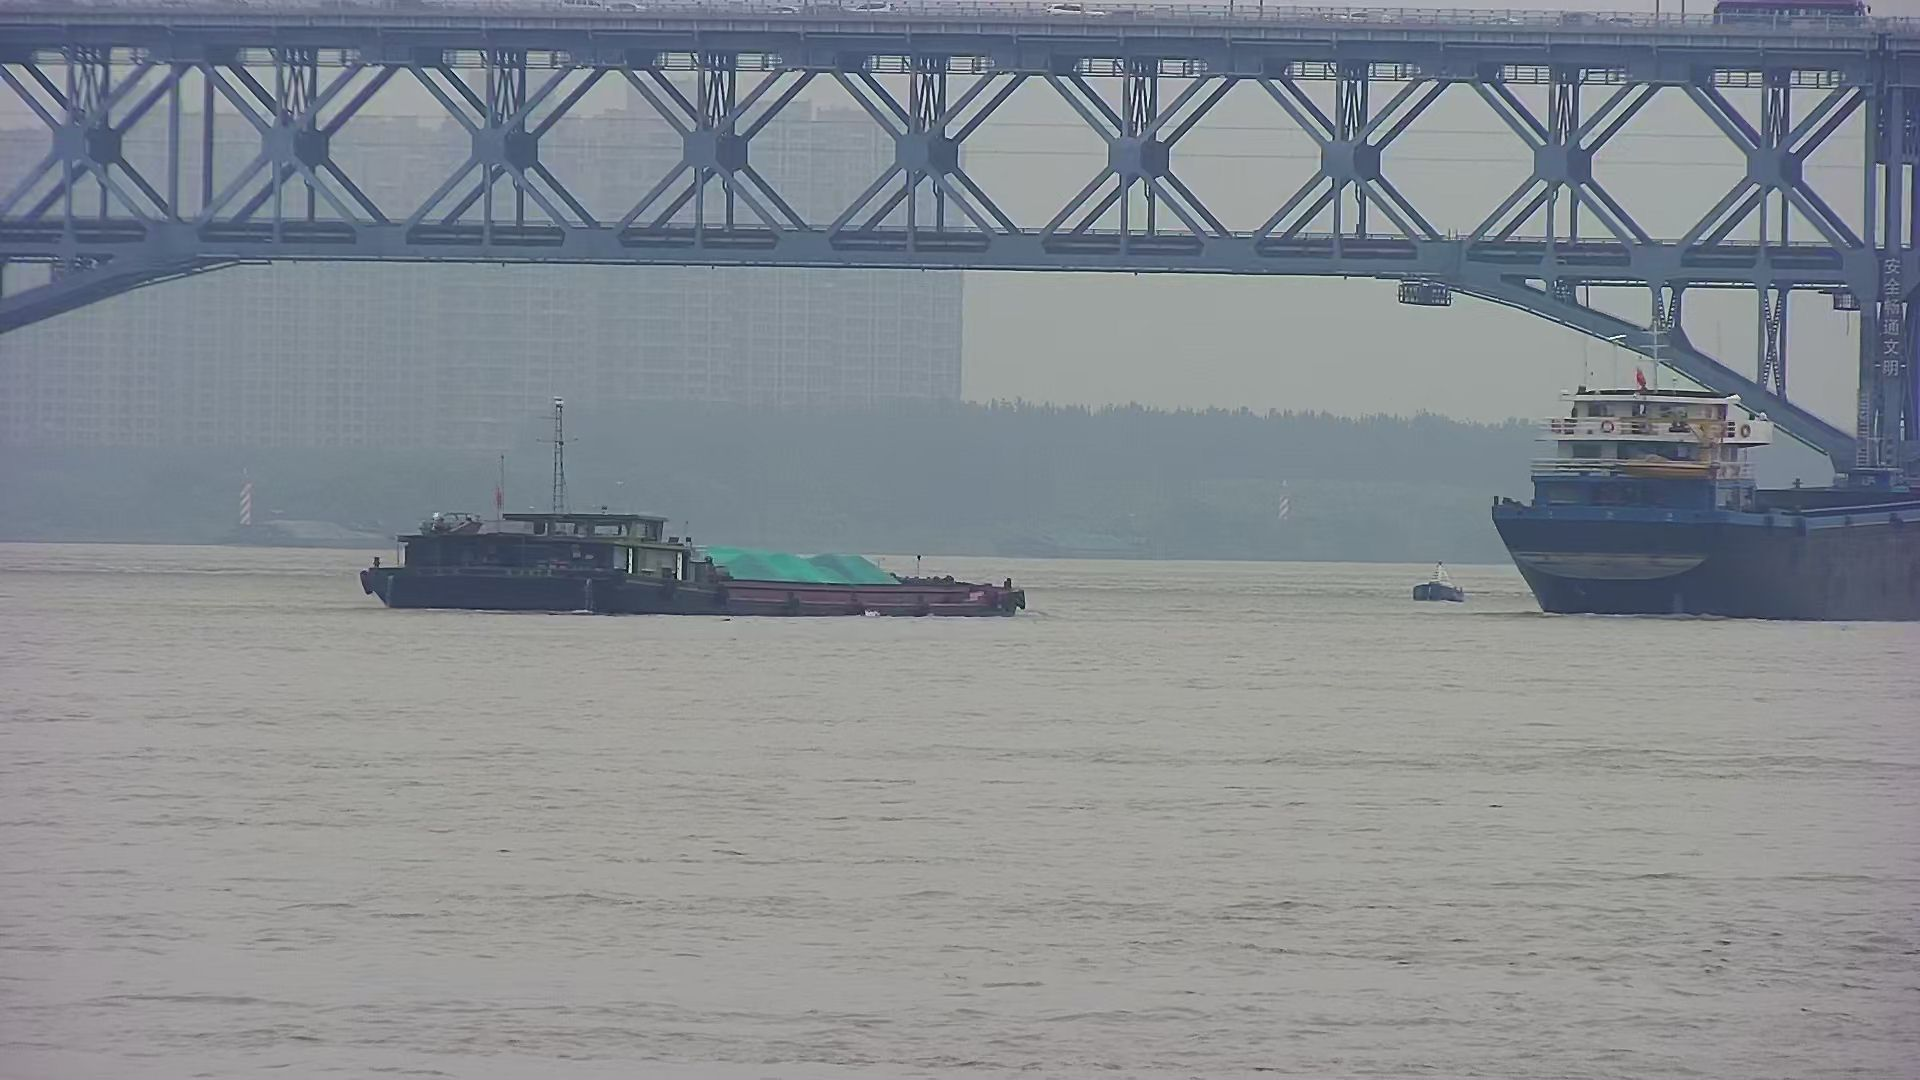bridge: (8, 11, 1913, 430)
ship: (1481, 386, 1911, 654), (360, 491, 1033, 626)
